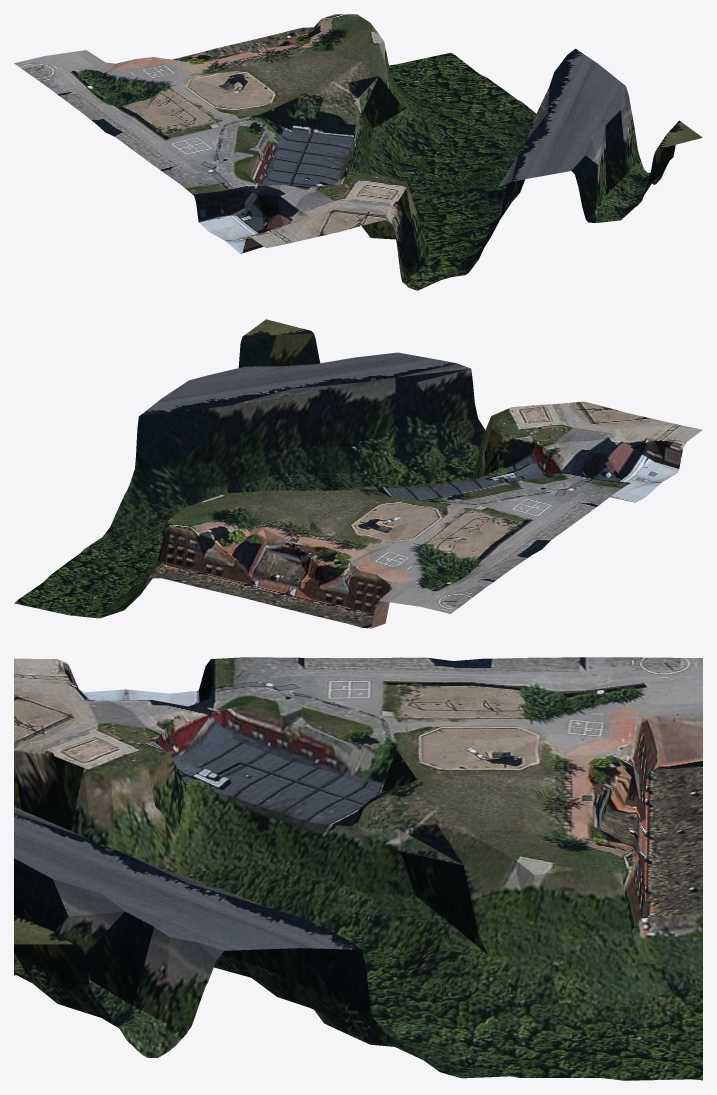
File: map_15_8180_13790.dae
3 renders of one model, top to bottom at view 1: azimuth 30°, elevation 25°; view 2: azimuth 150°, elevation 25°; view 3: azimuth 270°, elevation 25°, orthographic. The views are drawn at different scales.
Visible parts, largest first — view 1: Ter0; view 2: Ter0; view 3: Ter0.
Part boxes in pixels (box(x1,y1,x2,y2)): Ter0: box(14, 14, 702, 290); Ter0: box(14, 319, 702, 628); Ter0: box(14, 657, 702, 1080).
Size of the model in its own units: 63.88 by 63.88 by 14.47.
Materials: 3 (3 with a texture image).
